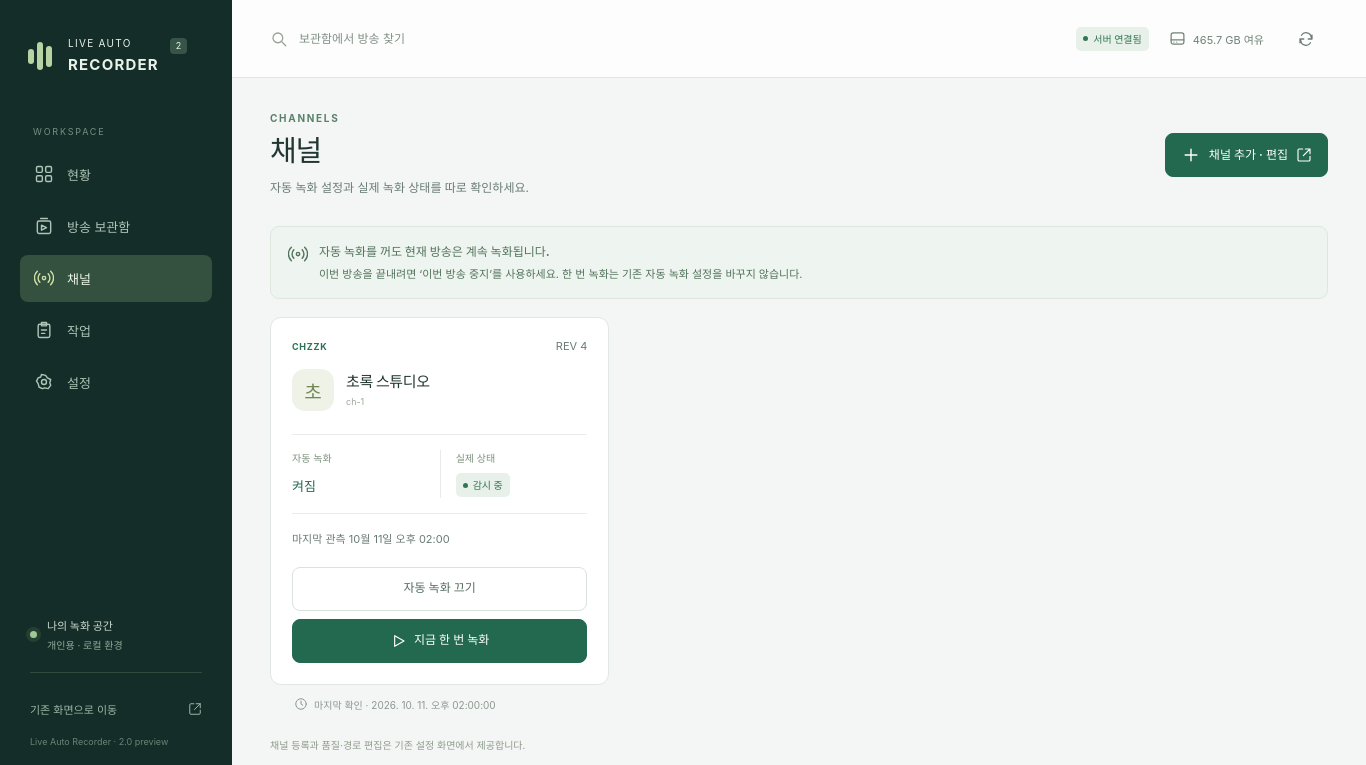
Test: shows blocked command reason and releases its pending state
The width and height of the screenshot is (1366, 765).
Expected: the heading "초록 스튜디오" is shown, [346, 370, 430, 391]
Click the button "지금 한 번 녹화". click: point(440, 641)
box: [292, 619, 587, 663]
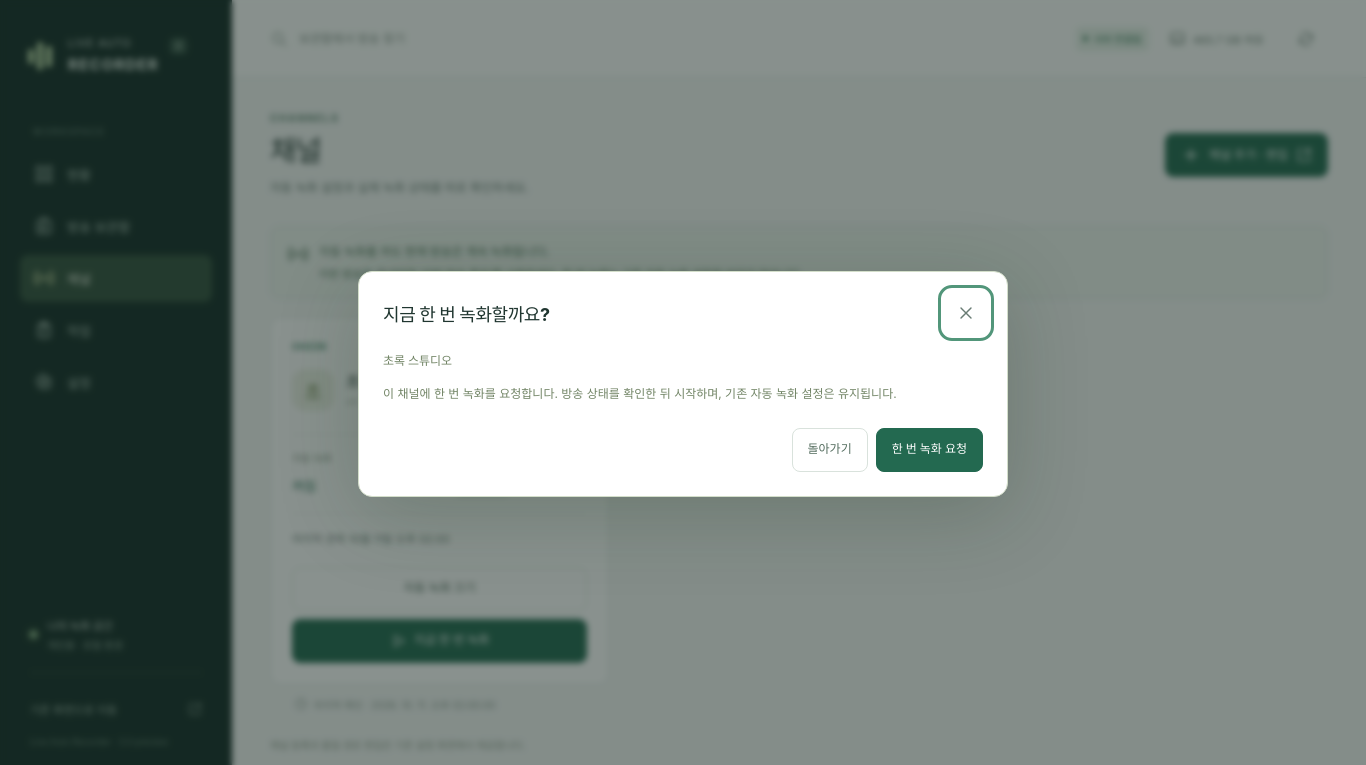
Click the button "한 번 녹화 요청". click: point(929, 450)
box: [876, 428, 983, 472]
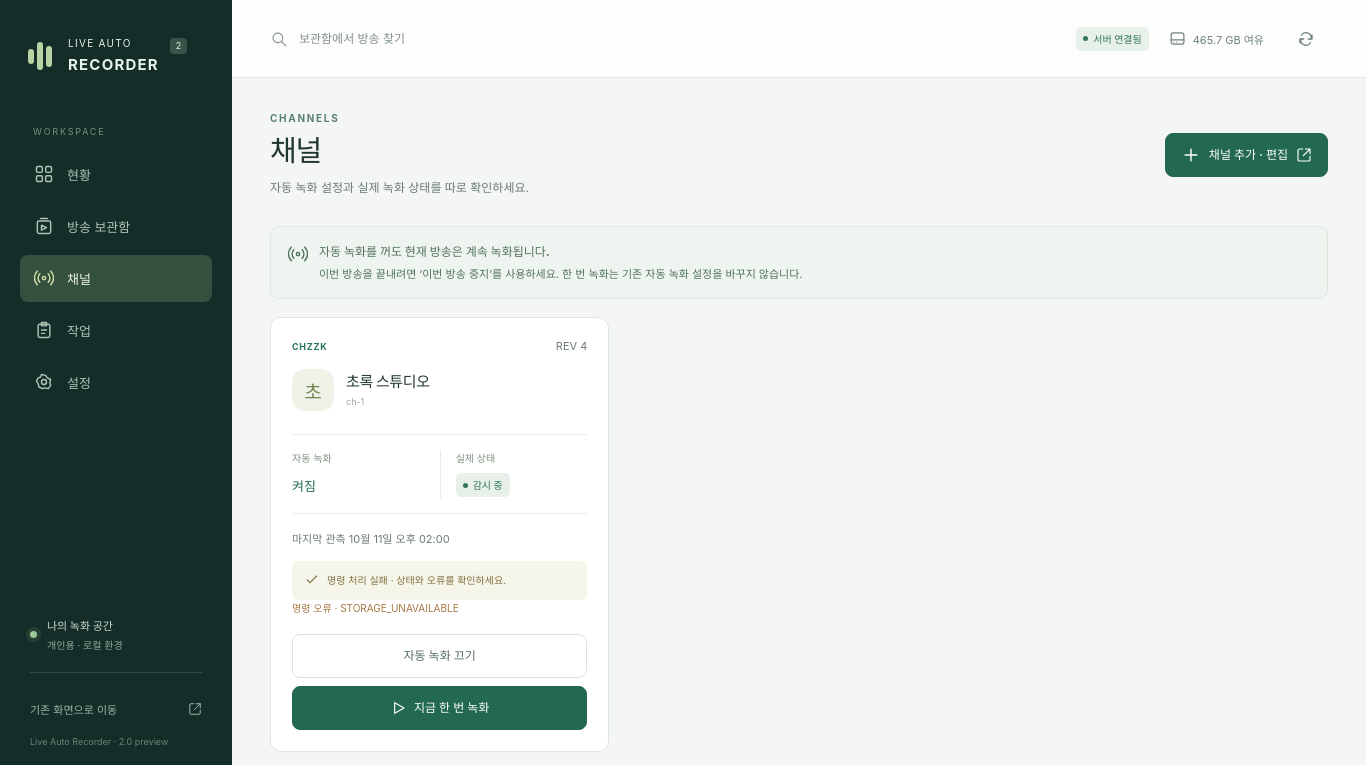
Expected: the button "지금 한 번 녹화" is enabled, [292, 686, 587, 730]
Expected: the text "명령 오류 · STORAGE_UNAVAILABLE" is shown, [292, 602, 459, 614]
